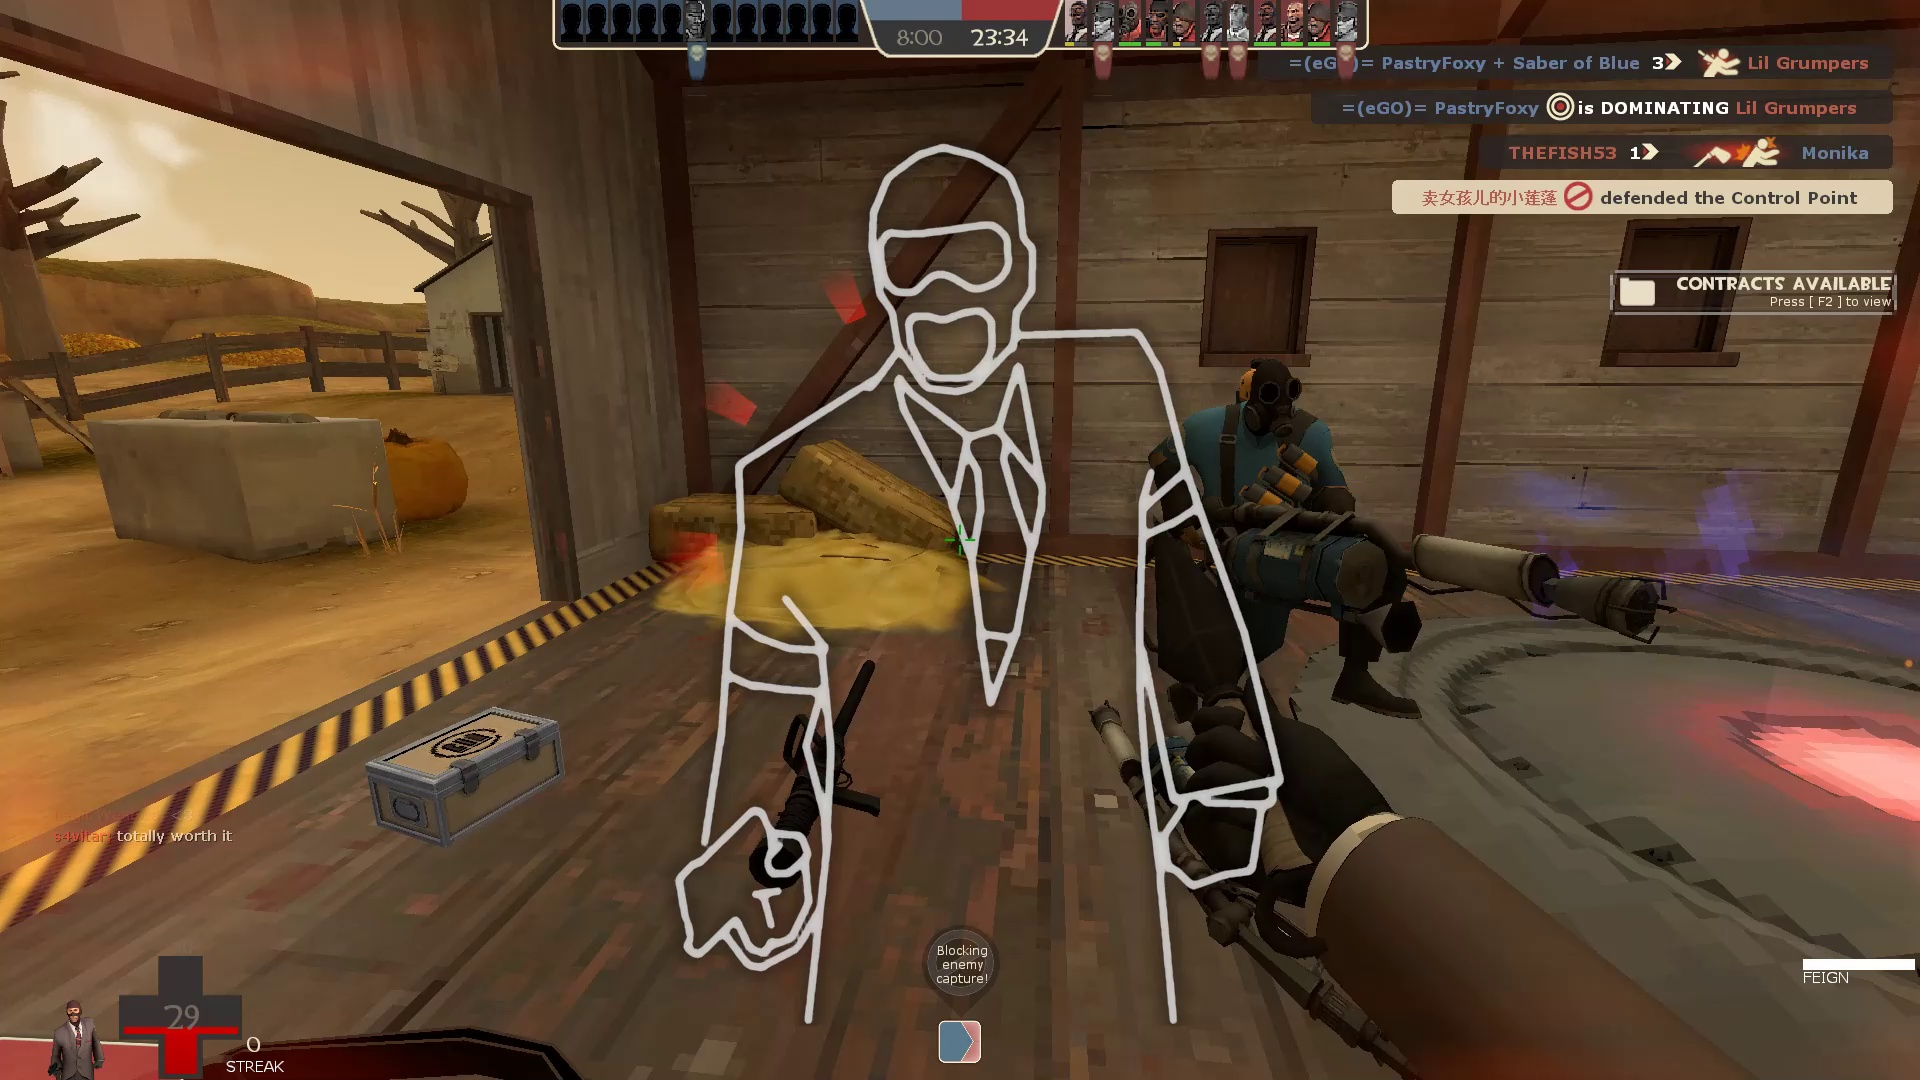blu_pyro: (1139, 353, 1665, 731)
